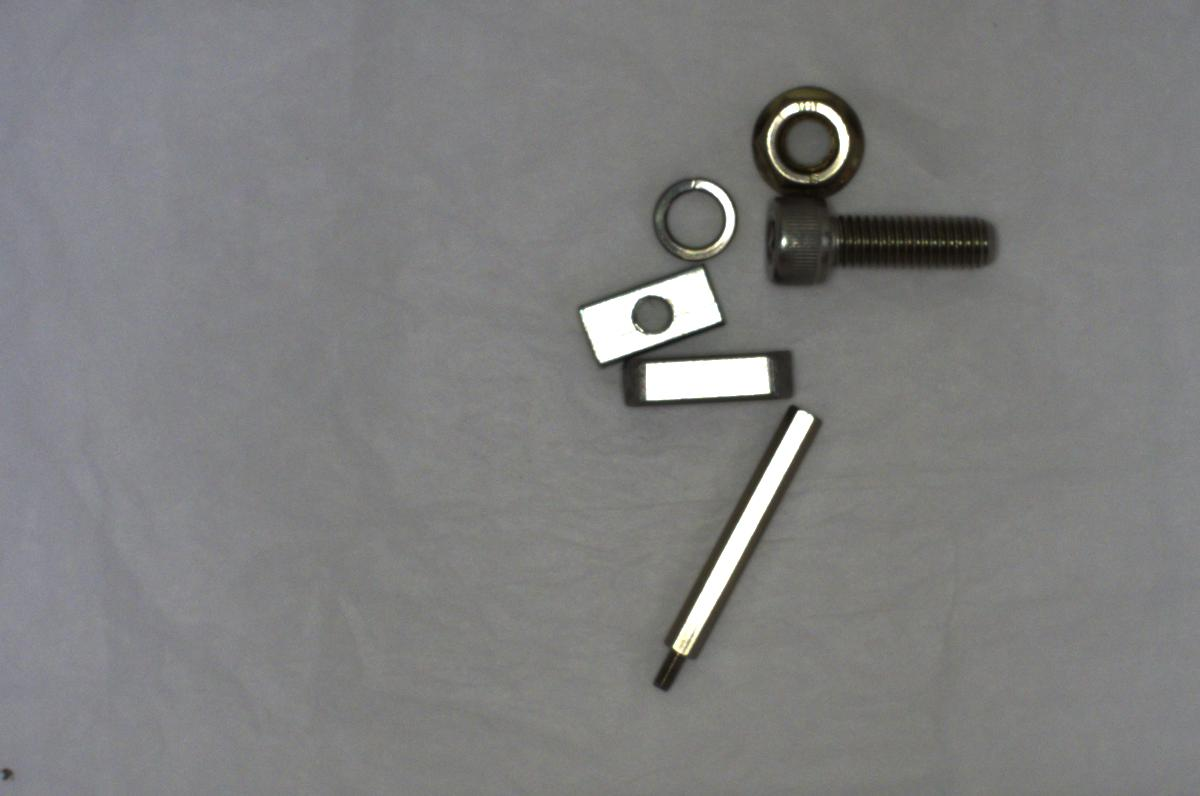Flange nut: (748, 82, 873, 200)
Hexagon screw: (770, 185, 1003, 281)
Hexagonal steel column: (632, 399, 825, 701)
Keybar: (611, 342, 802, 409)
Rectangular nut: (583, 268, 720, 360)
Spring washer: (650, 162, 741, 267)
